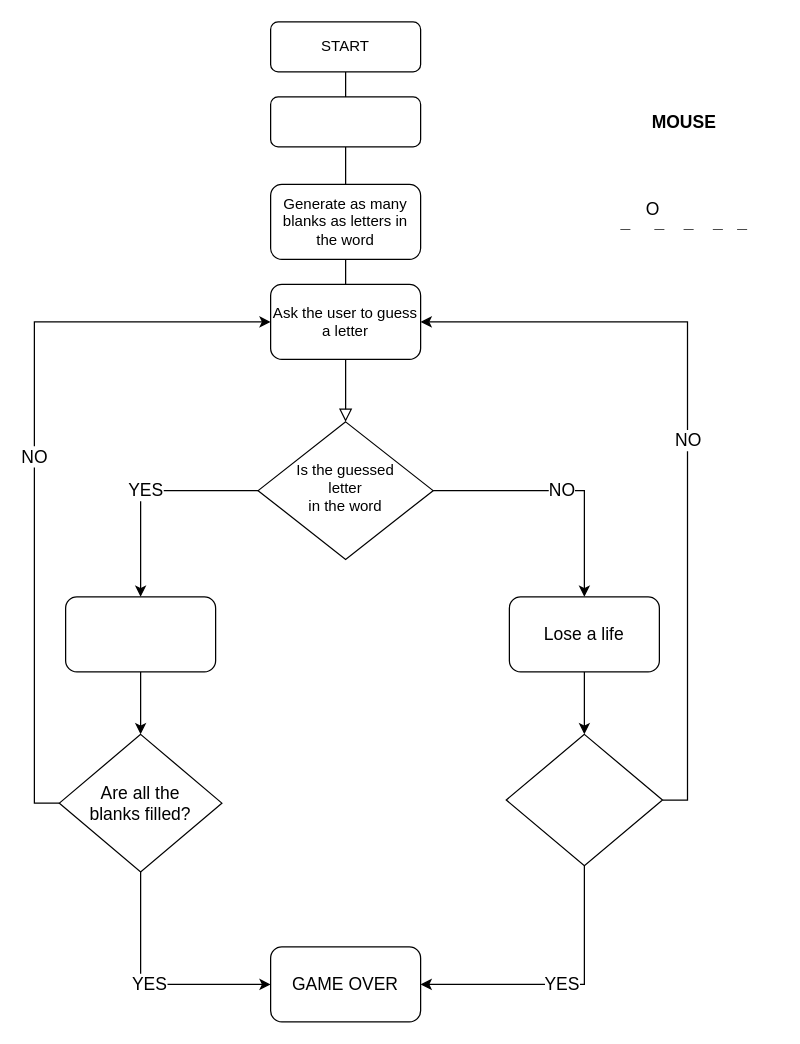
Image size: 800x1044. Some labels were removed from this diagram. Each missing label, with the box of its shape:
Generate a random word: (269, 96, 421, 147)
Have the run out of words?: (505, 733, 662, 866)
Replace the blank with the chosen letter: (64, 596, 216, 672)
